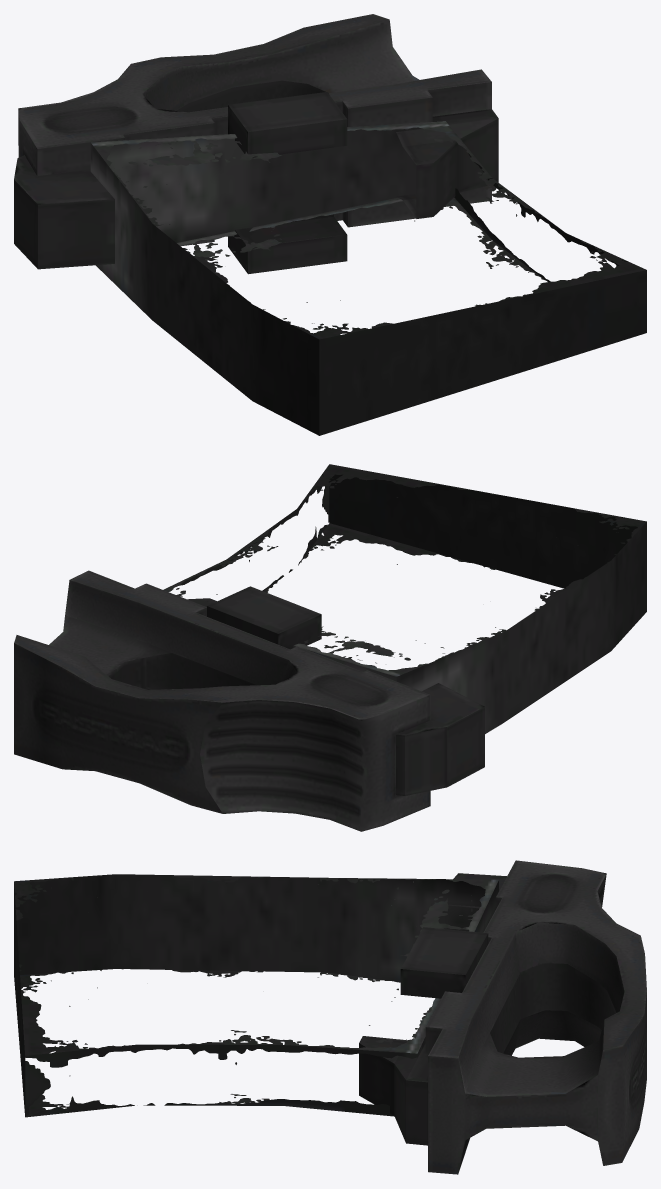
Rendered from t6_attach_fastmag_svu_world_LOD0.obj.
The picture shows the model from 3 angles, top to bottom: view 1: azimuth 30°, elevation 25°; view 2: azimuth 150°, elevation 25°; view 3: azimuth 270°, elevation 25°; orthographic projection. The views are drawn at different scales.
Visible parts, largest first — view 1: mtl_t6_attach_sniper_fastmag, mtl_t6_wpn_sniper_svu, mtl_t6_wpn_sniper_svu_camo3; view 2: mtl_t6_attach_sniper_fastmag, mtl_t6_wpn_sniper_svu, mtl_t6_wpn_sniper_svu_camo3; view 3: mtl_t6_attach_sniper_fastmag, mtl_t6_wpn_sniper_svu_camo3, mtl_t6_wpn_sniper_svu.
Boxes of the visible parts, box(x1,y1,x2,y2) form: mtl_t6_attach_sniper_fastmag: box(14, 14, 498, 274); mtl_t6_wpn_sniper_svu: box(91, 121, 646, 435); mtl_t6_wpn_sniper_svu_camo3: box(90, 143, 319, 435); mtl_t6_attach_sniper_fastmag: box(14, 570, 484, 831); mtl_t6_wpn_sniper_svu: box(163, 464, 646, 681); mtl_t6_wpn_sniper_svu_camo3: box(396, 522, 646, 733); mtl_t6_attach_sniper_fastmag: box(359, 860, 646, 1174); mtl_t6_wpn_sniper_svu_camo3: box(14, 874, 485, 982); mtl_t6_wpn_sniper_svu: box(14, 874, 498, 1117).
Bounding box in the file's own units: 14.07 × 4.29 × 17.73.
